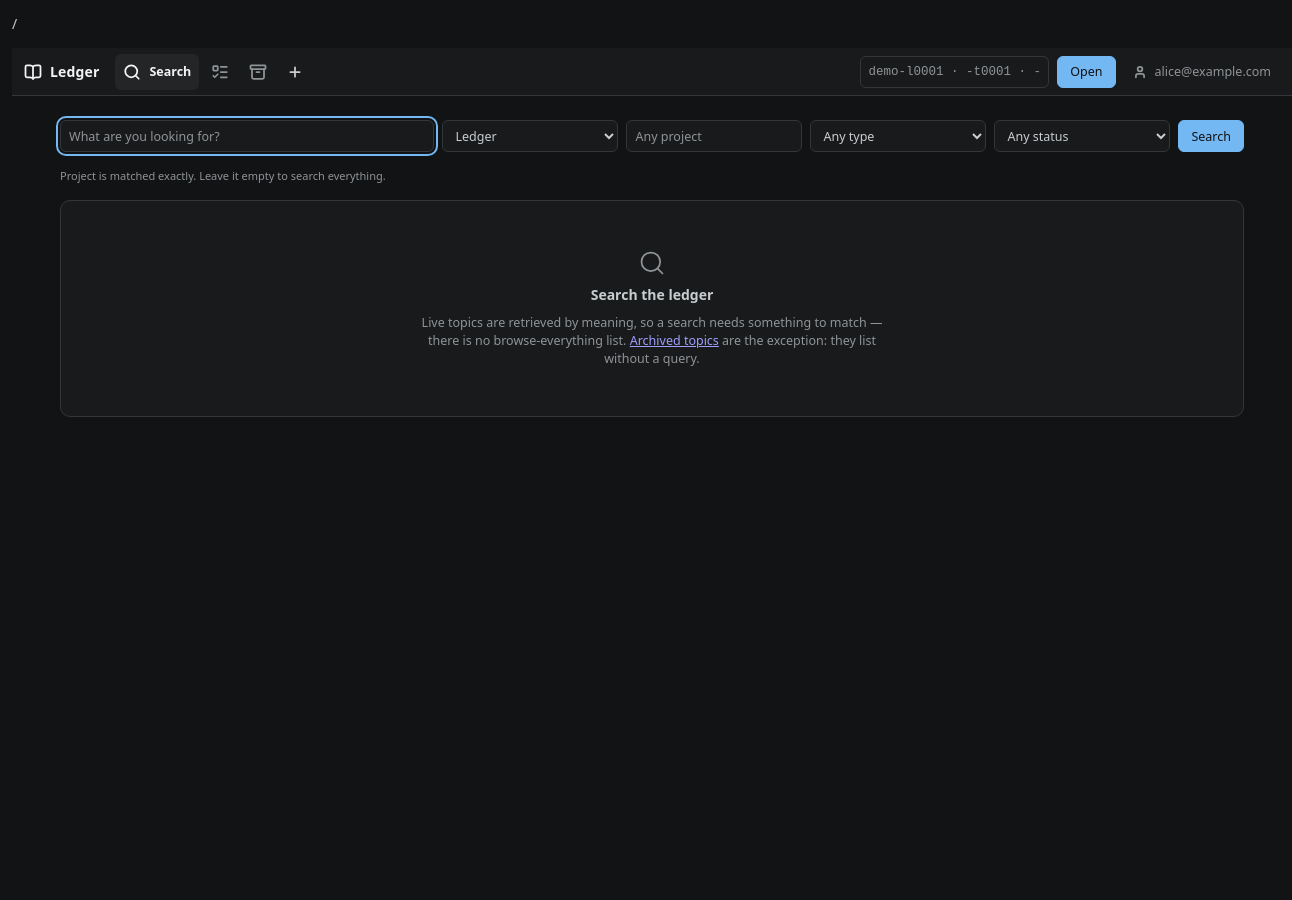
Test case: the tracker in the shell › goes to the last project used, remembered in this browser
Click the button named "Tracker".
click(220, 72)  # box top-left (203, 54), bottom-right (237, 90)
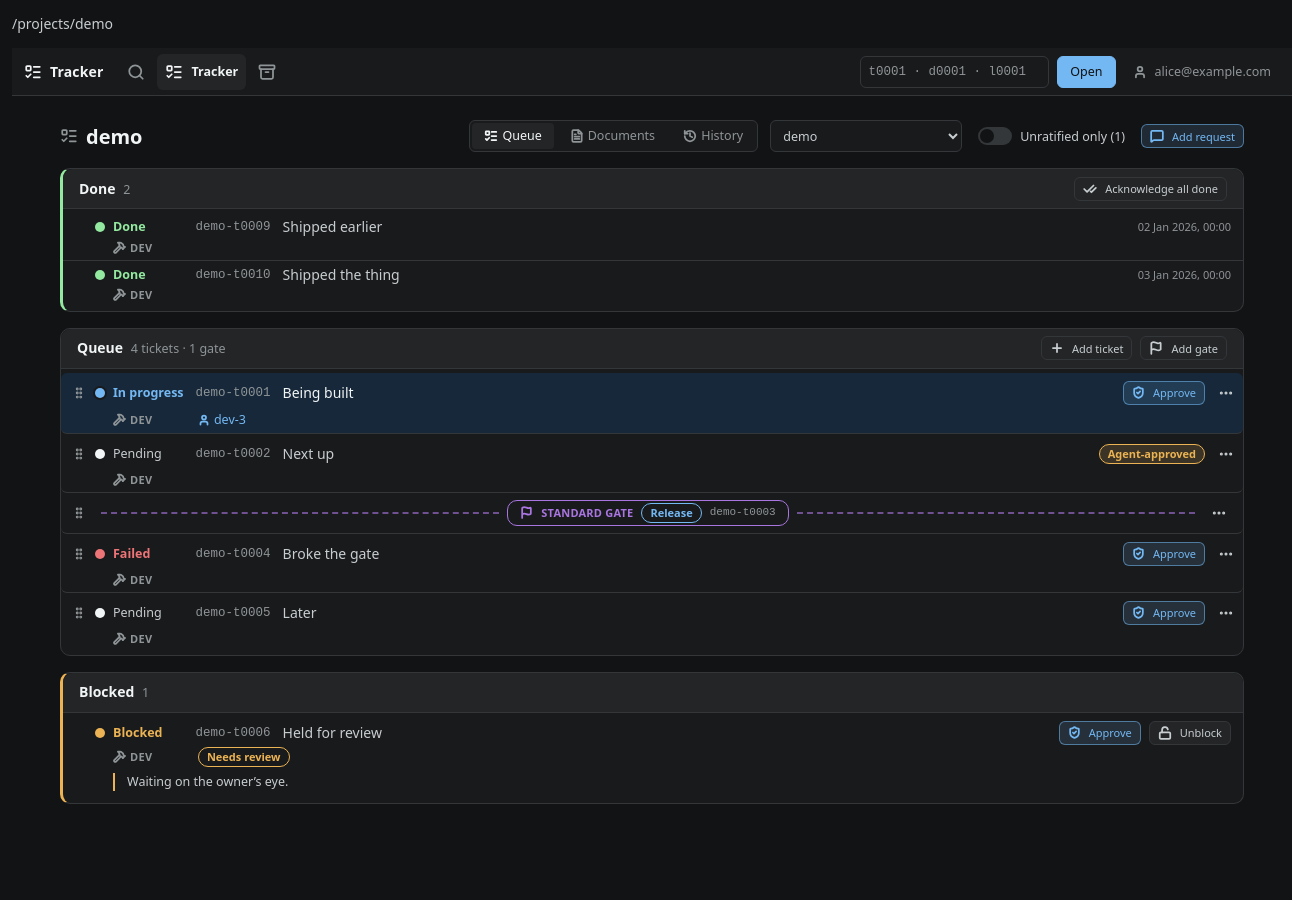
Expected: the text with test id "address" reads "/projects/demo", top-left (12, 14), bottom-right (113, 33)
Expected: the heading "demo" is shown, top-left (86, 124), bottom-right (142, 149)
